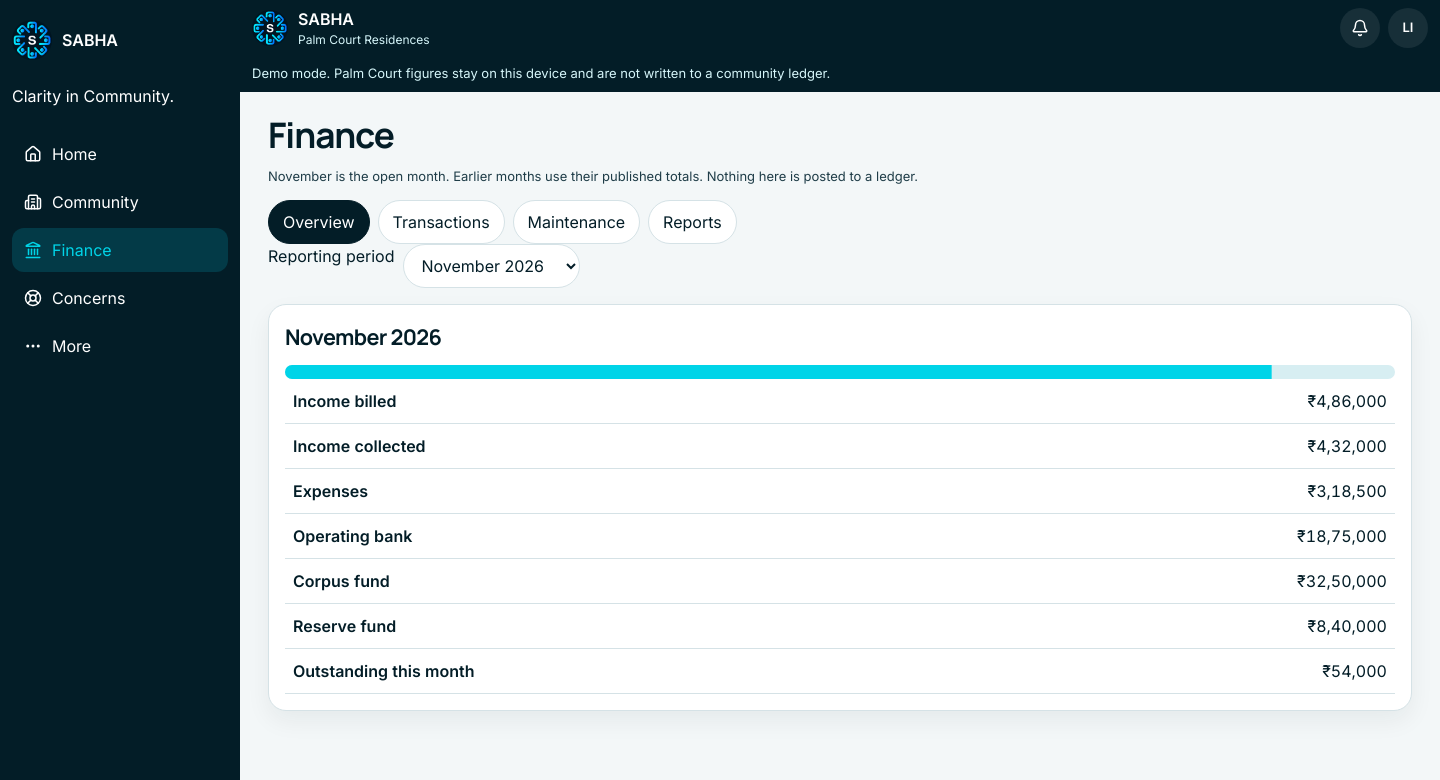
Scenario: a direct finance route renders only finance, and approval stays local
Expected: the heading "Finance" is shown, [268, 110, 394, 158]
Click the tab "Transactions" at (441,222), box [378, 200, 505, 244]
(page scrolled)
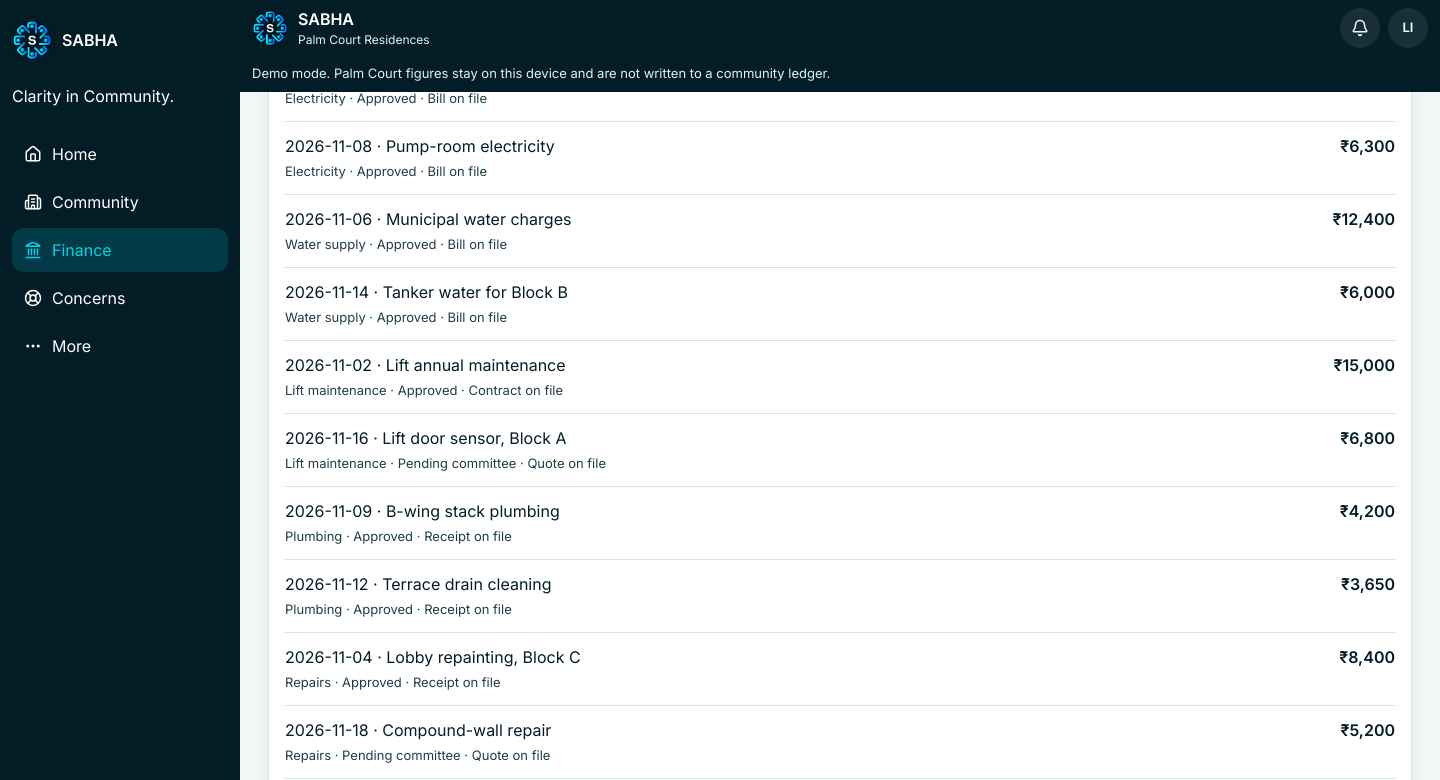
Click the button "Lift door sensor" at (327,438), box [285, 414, 1395, 487]
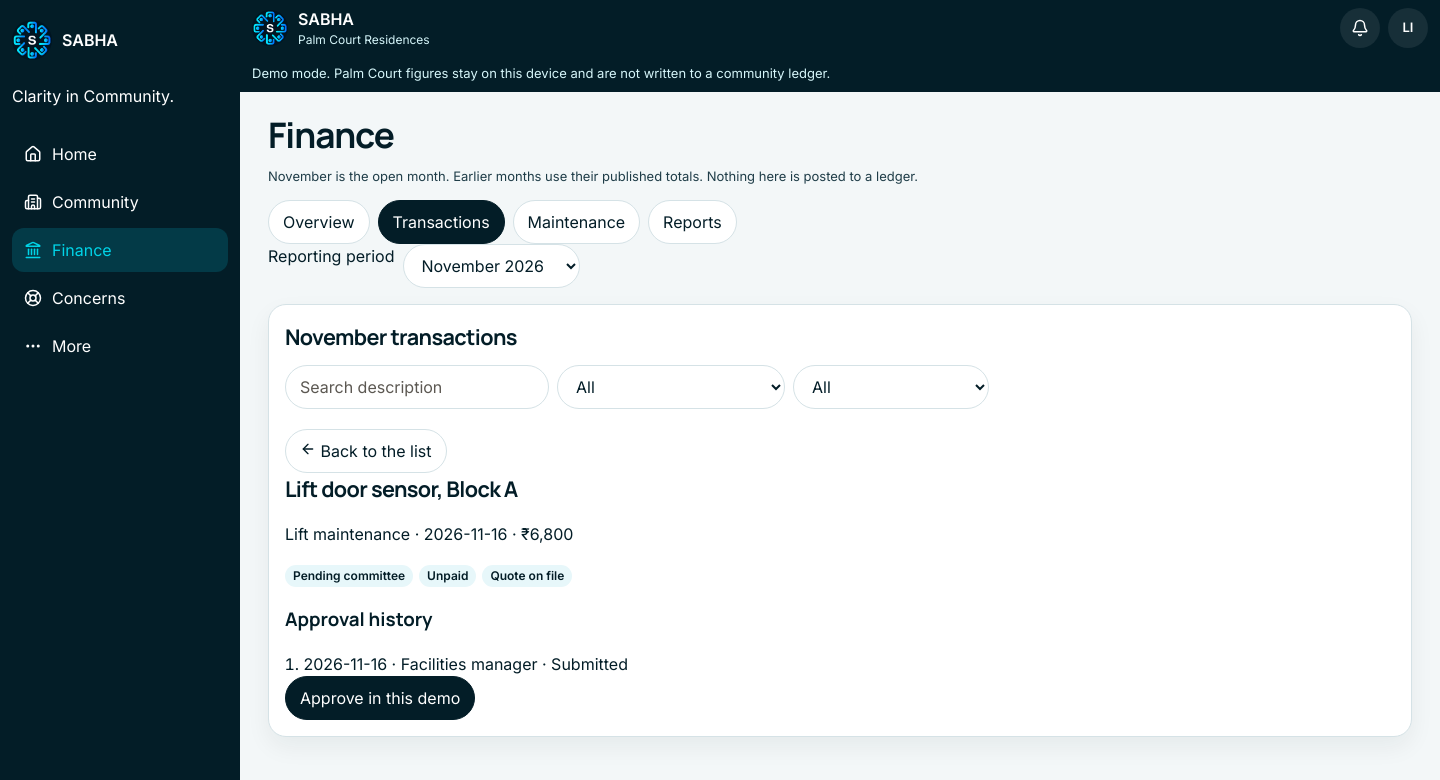
Click the button "Approve in this demo" at (380,698), box [285, 676, 475, 720]
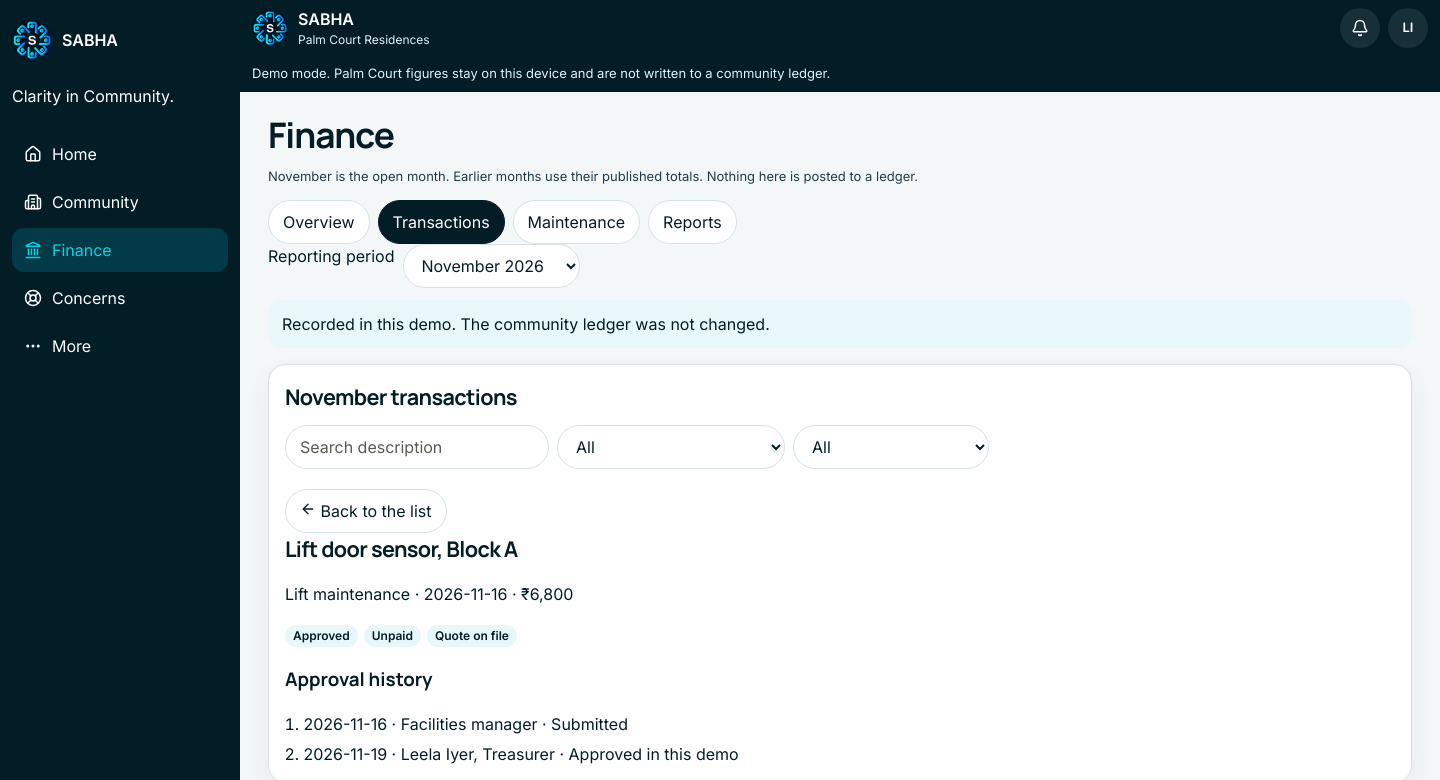
Now the message shows "ledger was not changed", box [282, 314, 770, 334]
